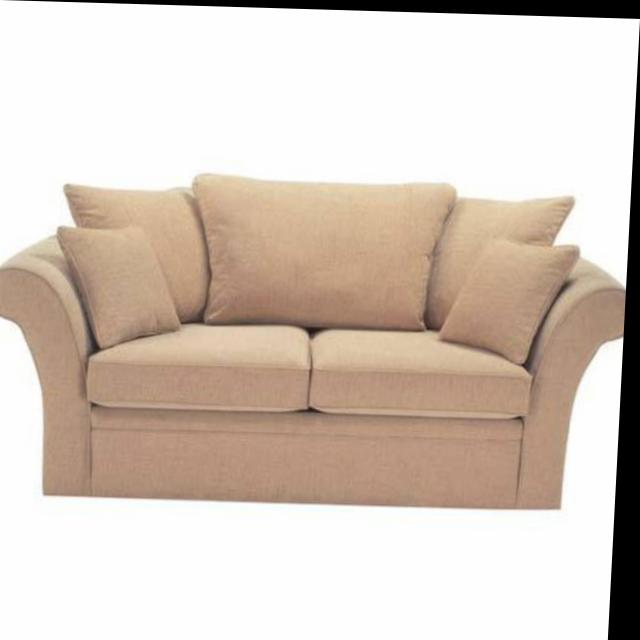Sofa: (0, 168, 633, 511)
